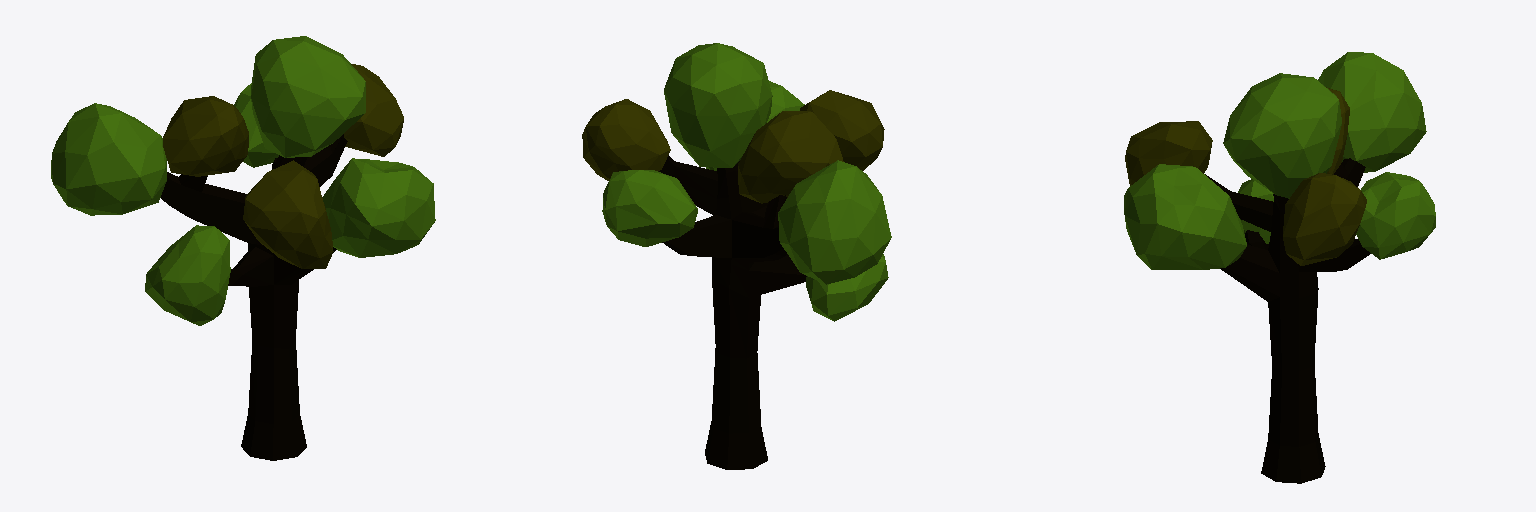
The model's file is Arbre_Normal.obj.
The picture shows the model from 3 angles: view 1: azimuth 30°, elevation 25°; view 2: azimuth 150°, elevation 25°; view 3: azimuth 270°, elevation 25°; orthographic projection.
Visible parts, largest first — view 1: Arbre_Normal_Cylinder.002; view 2: Arbre_Normal_Cylinder.002; view 3: Arbre_Normal_Cylinder.002.
Part boxes in pixels (bbox=[...]): Arbre_Normal_Cylinder.002: bbox=[51, 36, 435, 460]; Arbre_Normal_Cylinder.002: bbox=[582, 43, 891, 469]; Arbre_Normal_Cylinder.002: bbox=[1124, 52, 1435, 483].
Size of the model in its own units: 3.18 by 3.92 by 2.75.